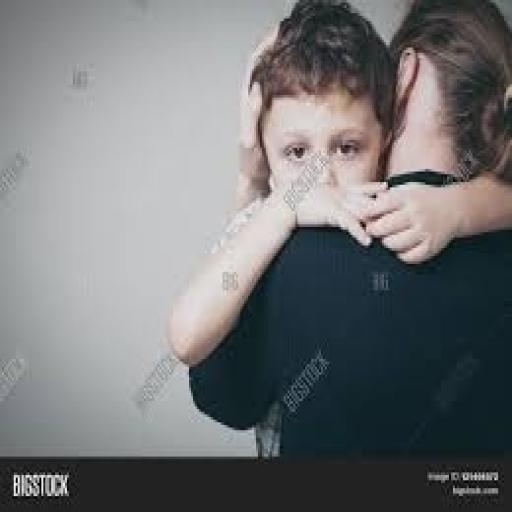hugging: (165, 0, 510, 459)
